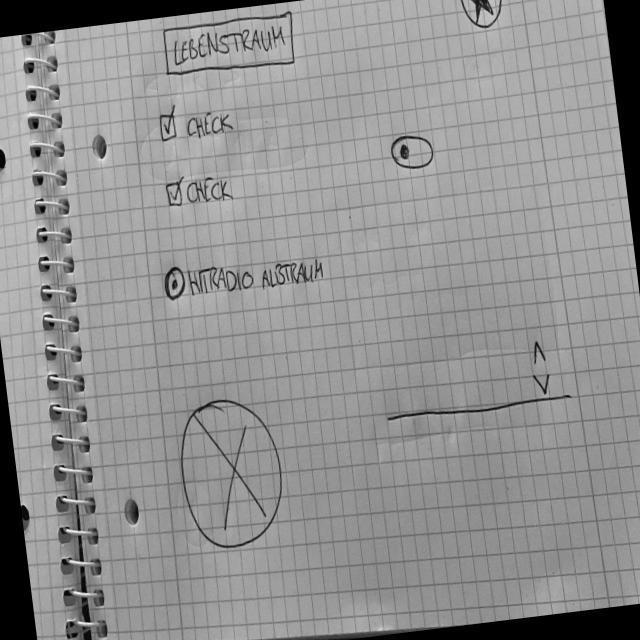button: (161, 8, 302, 86)
checkbox: (158, 96, 239, 146), (164, 169, 239, 214)
icon-button: (456, 1, 507, 33)
image: (169, 389, 293, 558)
number-input: (377, 332, 575, 429)
radio: (162, 247, 328, 307)
toggle: (390, 130, 438, 174)
